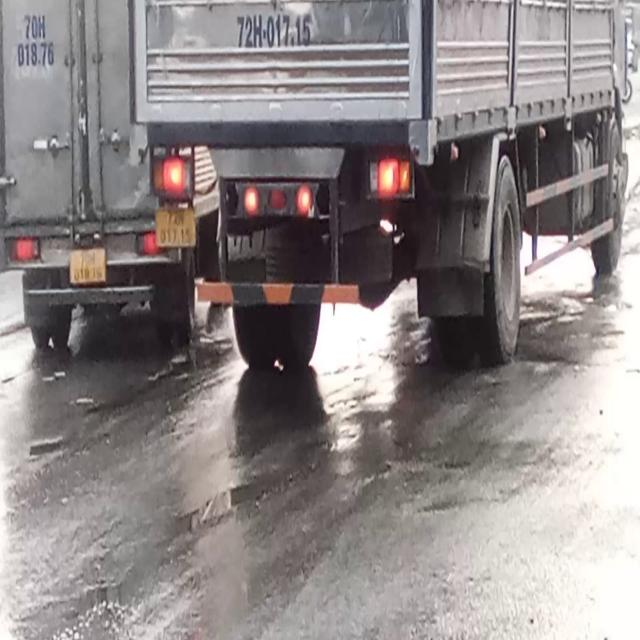bien_vang: (151, 204, 200, 256), (66, 244, 108, 286)
